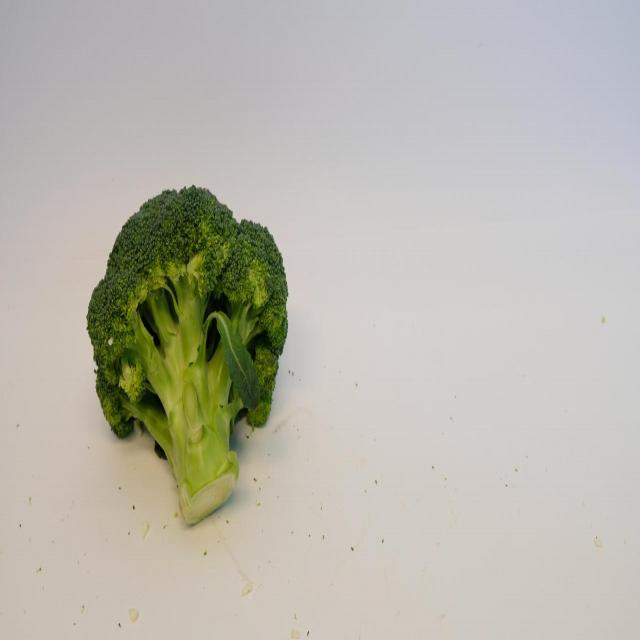broccoli: (85, 177, 289, 527)
